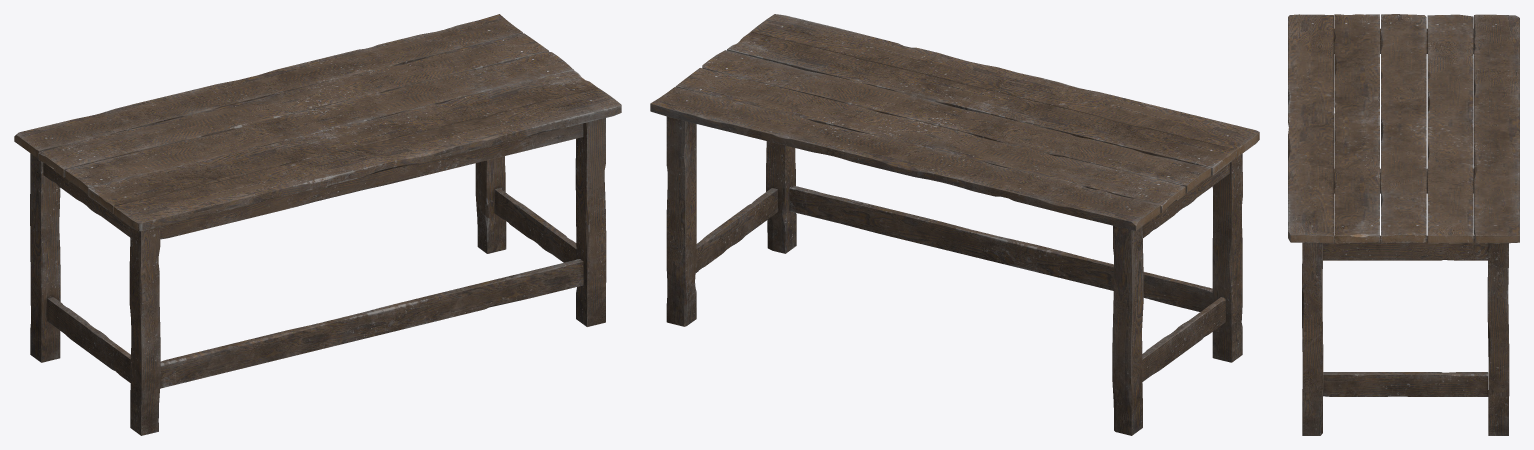
The model's file is old_wooden_table.glb.
3 views of the same model, side by side, from view 1: azimuth 30°, elevation 25°; view 2: azimuth 150°, elevation 25°; view 3: azimuth 270°, elevation 25° (orthographic). The views are drawn at different scales.
Parts seen in each view (by area): view 1: Wooden_Table; view 2: Wooden_Table; view 3: Wooden_Table.
Boxes of the visible parts, box(x1,y1,x2,y2) form: Wooden_Table: box(14, 14, 621, 435); Wooden_Table: box(650, 14, 1259, 435); Wooden_Table: box(1288, 14, 1519, 435).
Size of the model in its own units: 2.01 by 0.8712 by 0.8875.
1 material, 1 textured.
